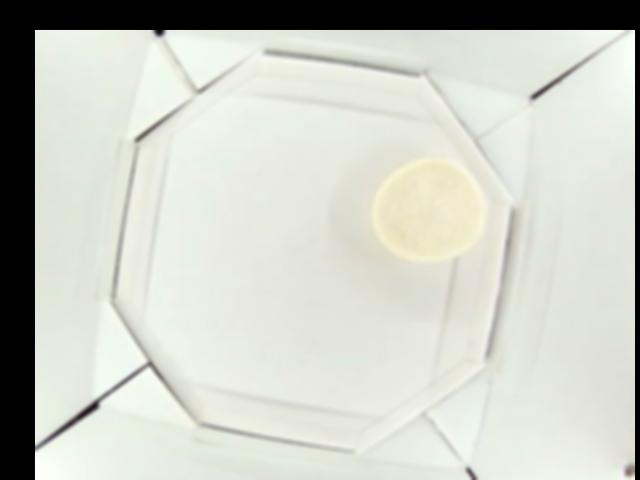Mooli: (371, 158, 486, 264)
